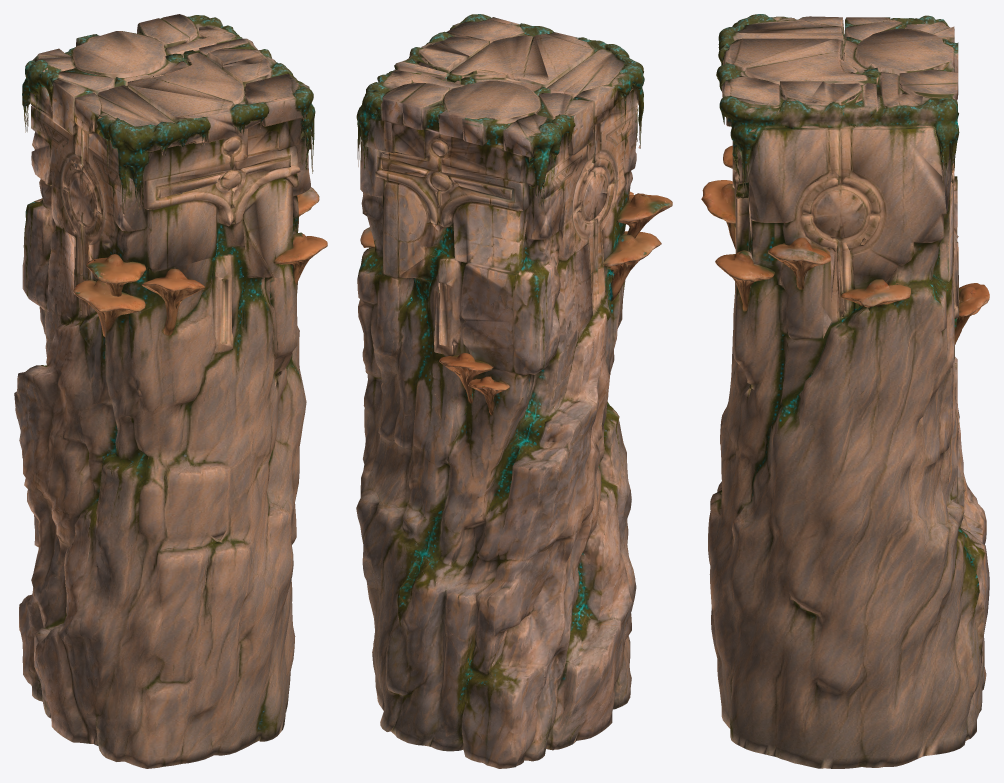
The model's file is citadel_stack.glb.
The picture shows the model from 3 angles, left to right: view 1: azimuth 30°, elevation 25°; view 2: azimuth 150°, elevation 25°; view 3: azimuth 270°, elevation 25°; orthographic projection. The views are drawn at different scales.
Size of the model in its own units: 0.3848 by 0.9521 by 0.3779.
Materials: 1 (1 with a texture image).
